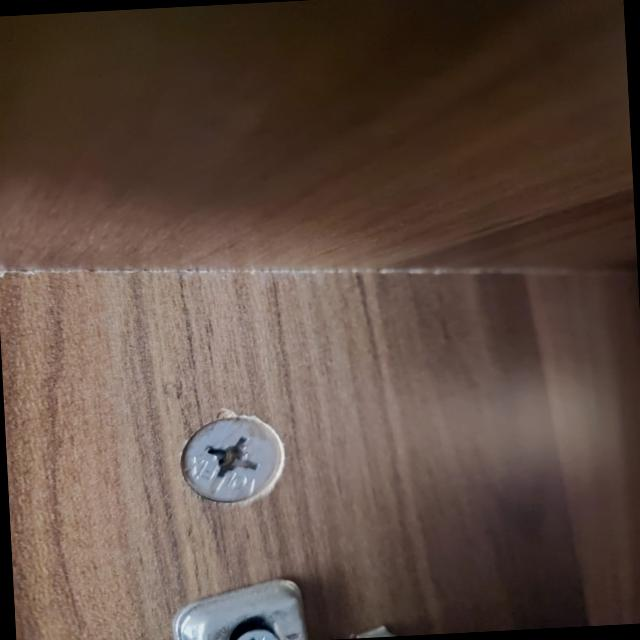Phillips: (176, 403, 308, 508)
